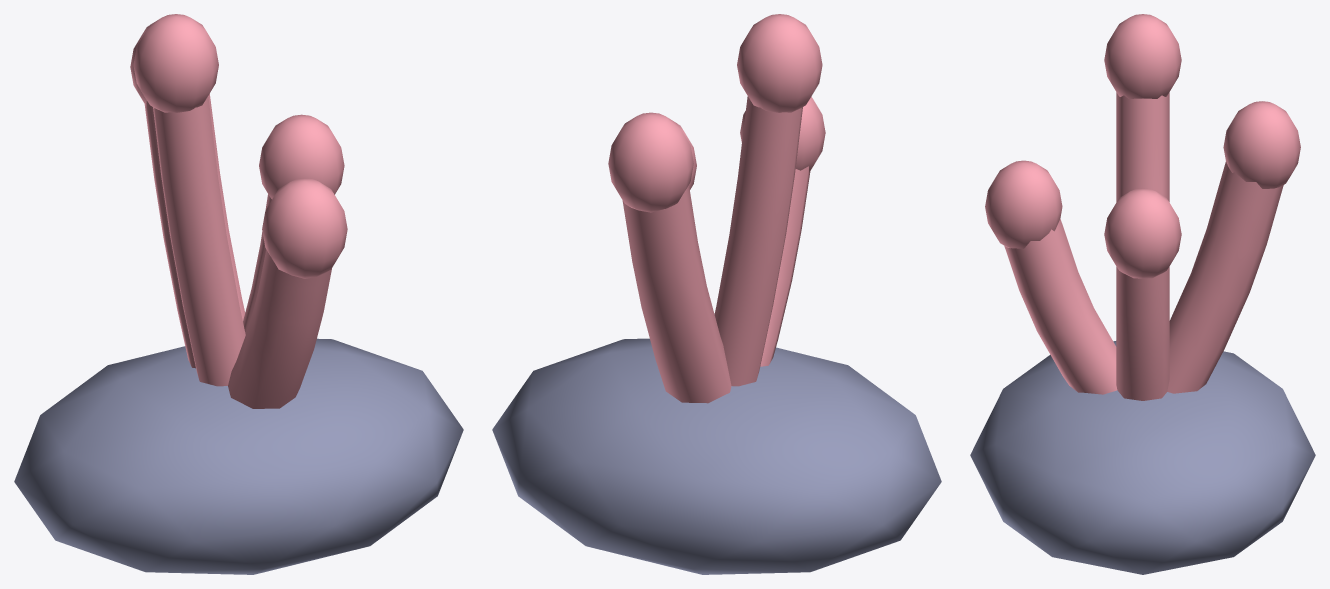
The model's file is coral.glb.
3 views of the same model, side by side, from view 1: azimuth 30°, elevation 25°; view 2: azimuth 150°, elevation 25°; view 3: azimuth 270°, elevation 25° (orthographic). The views are drawn at different scales.
Visible parts, largest first — view 1: RootStone, Branch_2, Branch_3, RoundedTip_3, RoundedTip_2, RoundedTip_0, Branch_1, Branch_0; view 2: RootStone, Branch_2, Branch_1, RoundedTip_1, RoundedTip_2, Branch_3, RoundedTip_3; view 3: RootStone, Branch_1, Branch_3, Branch_0, RoundedTip_0, RoundedTip_2, RoundedTip_1, RoundedTip_3, Branch_2.
Boxes of the visible parts, x1=… form: RootStone: x1=14, y1=338, x2=463, y2=574; Branch_2: x1=153, y1=96, x2=245, y2=386; Branch_3: x1=228, y1=249, x2=331, y2=408; RoundedTip_3: x1=262, y1=178, x2=347, y2=278; RoundedTip_2: x1=133, y1=14, x2=218, y2=112; RoundedTip_0: x1=259, y1=114, x2=344, y2=199; Branch_1: x1=144, y1=94, x2=245, y2=368; Branch_0: x1=243, y1=194, x2=271, y2=334; RootStone: x1=492, y1=338, x2=941, y2=574; Branch_2: x1=714, y1=96, x2=802, y2=386; Branch_1: x1=622, y1=185, x2=731, y2=403; RoundedTip_1: x1=608, y1=112, x2=693, y2=212; RoundedTip_2: x1=737, y1=14, x2=822, y2=112; Branch_3: x1=760, y1=166, x2=810, y2=366; RoundedTip_3: x1=740, y1=96, x2=825, y2=172; RootStone: x1=970, y1=341, x2=1315, y2=574; Branch_1: x1=1167, y1=162, x2=1283, y2=393; Branch_3: x1=1004, y1=219, x2=1117, y2=394; Branch_0: x1=1116, y1=266, x2=1169, y2=400; RoundedTip_0: x1=1104, y1=188, x2=1181, y2=278; RoundedTip_2: x1=1104, y1=14, x2=1181, y2=98; RoundedTip_1: x1=1223, y1=101, x2=1300, y2=188; RoundedTip_3: x1=985, y1=160, x2=1062, y2=248; Branch_2: x1=1116, y1=92, x2=1169, y2=201.
Size of the model in its own units: 1.37 by 1.82 by 1.16.
